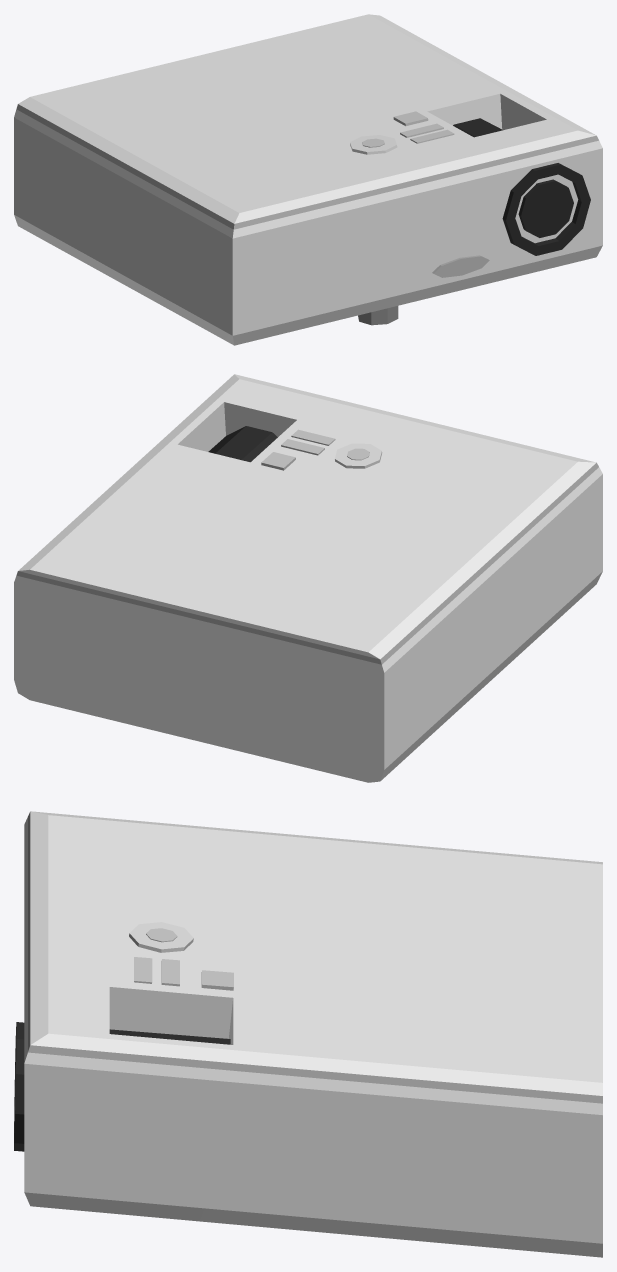
File: beam_projector.fbx
The picture shows the model from 3 angles, top to bottom: view 1: azimuth 30°, elevation 25°; view 2: azimuth 150°, elevation 25°; view 3: azimuth 270°, elevation 25°; orthographic projection. The views are drawn at different scales.
Parts seen in each view (by area): view 1: beam_projector; view 2: beam_projector; view 3: beam_projector.
Boxes of the visible parts, <box> form: beam_projector: <box>14,14,602,345</box>; beam_projector: <box>14,374,602,782</box>; beam_projector: <box>14,811,602,1257</box>.
Size of the model in its own units: 7.11 by 3.08 by 7.4.
1 material, 1 textured.
